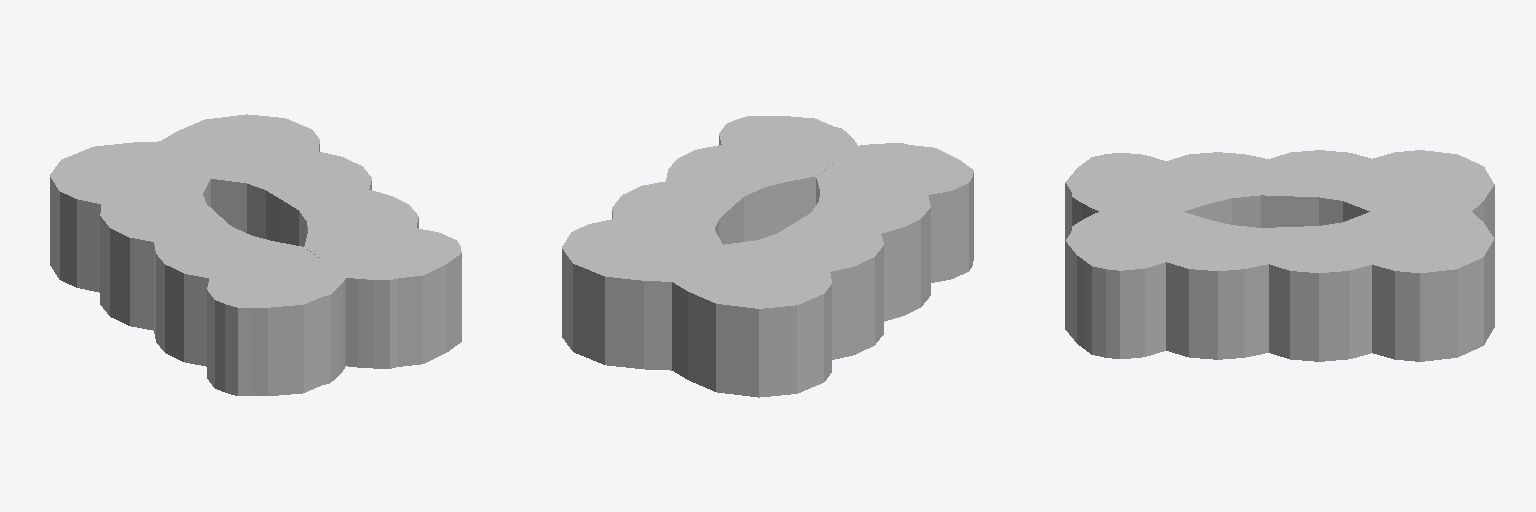
File: Boss1_Body.obj
3 renders of one model, left to right at view 1: azimuth 30°, elevation 25°; view 2: azimuth 150°, elevation 25°; view 3: azimuth 270°, elevation 25°, orthographic.
Visible parts, largest first — view 1: Cube; view 2: Cube; view 3: Cube.
Boxes of the visible parts, x1=… form: Cube: x1=50, y1=114, x2=461, y2=395; Cube: x1=562, y1=116, x2=973, y2=397; Cube: x1=1065, y1=150, x2=1494, y2=361.
Bounding box in the file's own units: 4.92 × 1.65 × 7.23.